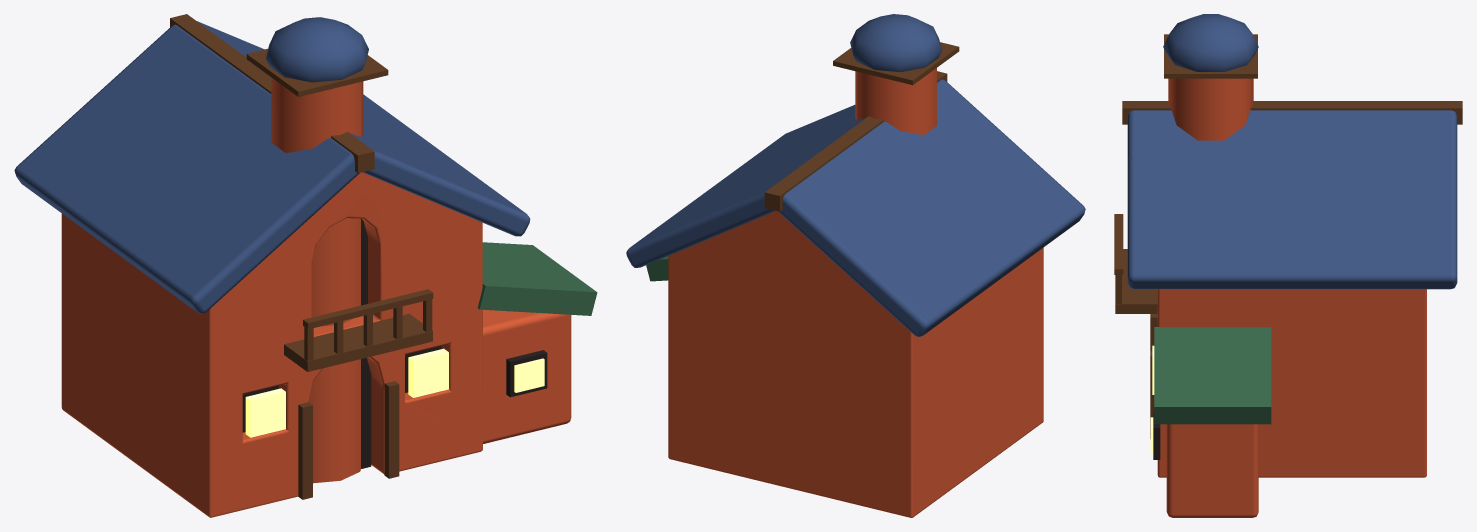
The model's file is Buildings__mansion.glb.
The picture shows the model from 3 angles, left to right: view 1: azimuth 30°, elevation 25°; view 2: azimuth 150°, elevation 25°; view 3: azimuth 270°, elevation 25°; orthographic projection. The views are drawn at different scales.
Visible parts, largest first — view 1: mansion_mesh; view 2: mansion_mesh; view 3: mansion_mesh.
Boxes of the visible parts, x1=… form: mansion_mesh: x1=14, y1=14, x2=597, y2=517; mansion_mesh: x1=626, y1=14, x2=1085, y2=517; mansion_mesh: x1=1114, y1=14, x2=1462, y2=517.
Size of the model in its own units: 2.47 by 2.48 by 1.96.
